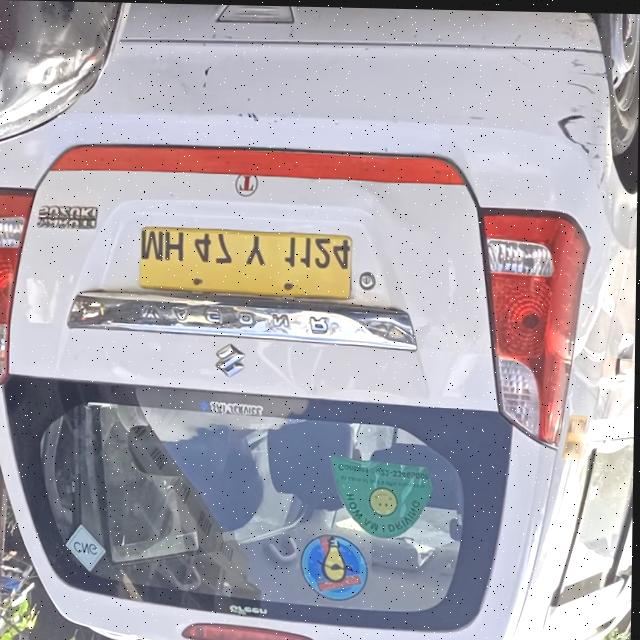plate: (138, 226, 354, 300)
